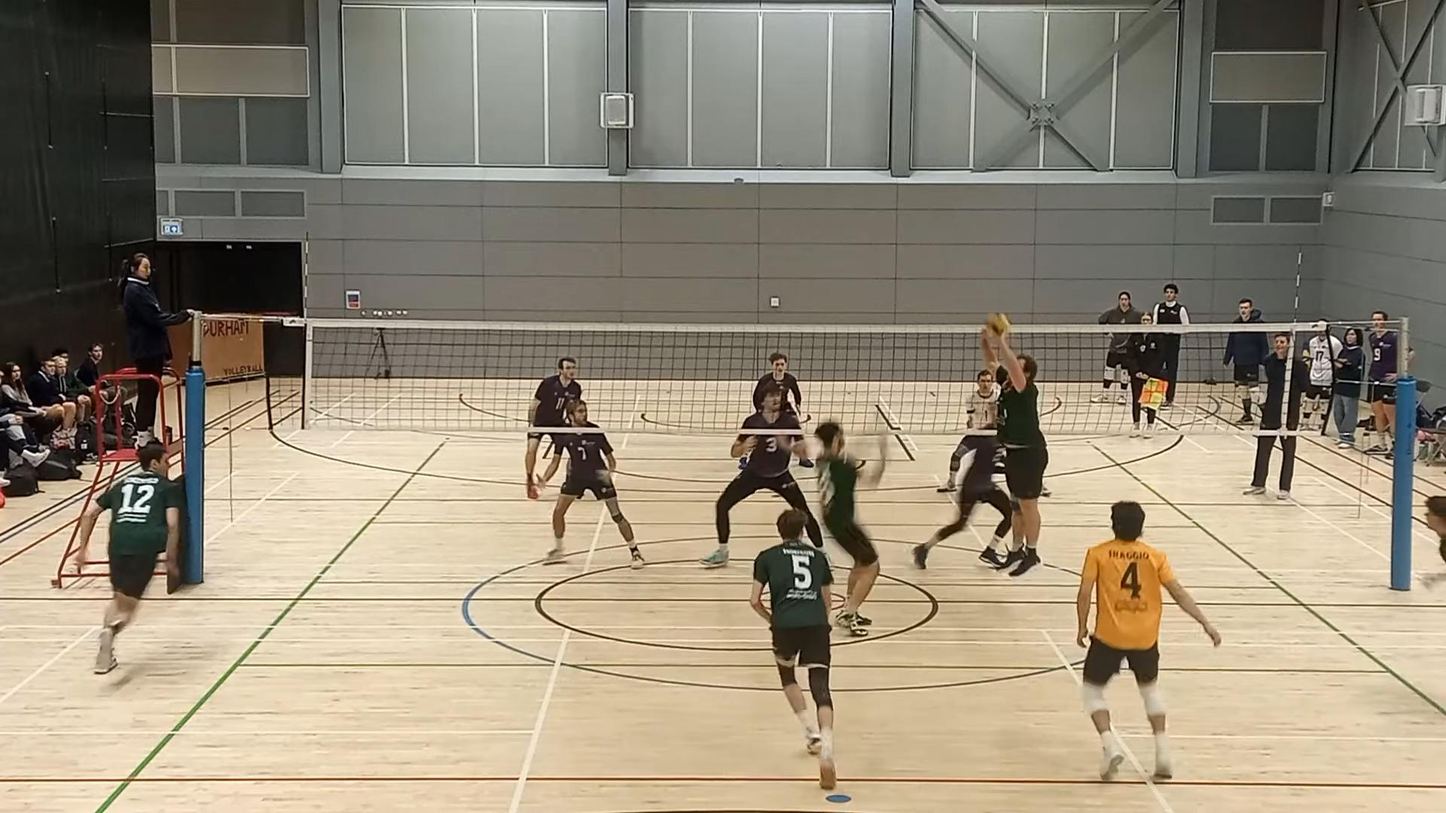Player: (1076, 501, 1220, 779), (75, 440, 183, 674), (750, 510, 836, 789), (700, 388, 822, 568), (815, 422, 886, 636), (541, 431, 644, 568), (912, 434, 1016, 568), (937, 370, 999, 492), (529, 357, 581, 427), (752, 352, 801, 422)
Set: (971, 325, 1047, 569)
ball: (984, 313, 1016, 336)
